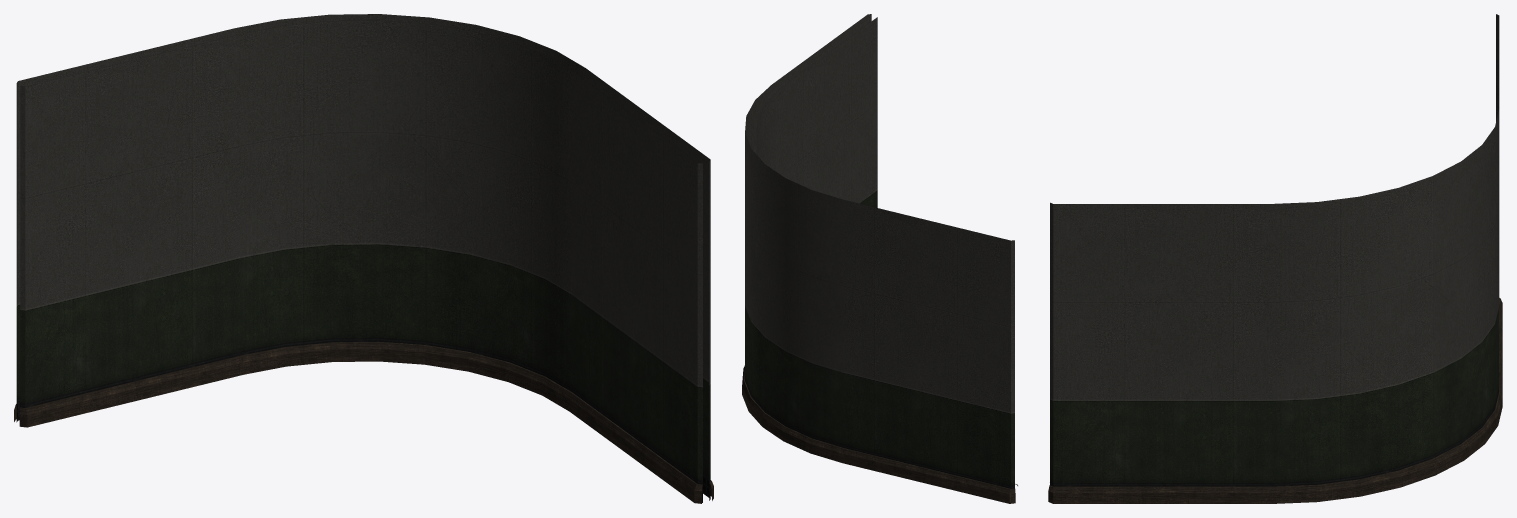
Rendered from wall_1_1_rounded_corner_1.obj.
The picture shows the model from 3 angles, left to right: view 1: azimuth 30°, elevation 25°; view 2: azimuth 150°, elevation 25°; view 3: azimuth 270°, elevation 25°; orthographic projection. The views are drawn at different scales.
Parts seen in each view (by area): view 1: wall_1_1_rounded_corner_1; view 2: wall_1_1_rounded_corner_1; view 3: wall_1_1_rounded_corner_1.
Boxes of the visible parts, x1,y1,x2,y2 form: wall_1_1_rounded_corner_1: [14, 14, 713, 503]; wall_1_1_rounded_corner_1: [742, 14, 1017, 503]; wall_1_1_rounded_corner_1: [1048, 14, 1502, 503].
Bounding box in the file's own units: 4.13 × 3 × 4.13.
